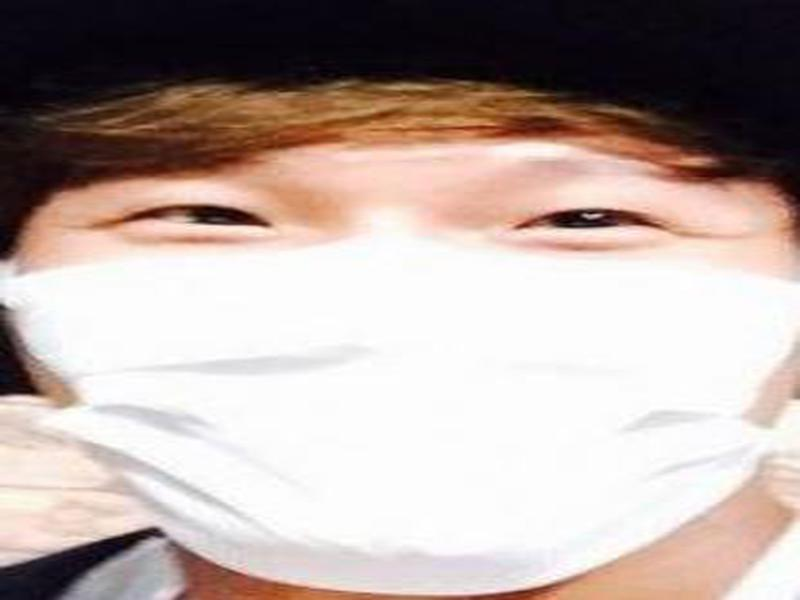with_mask: (1, 84, 797, 596)
